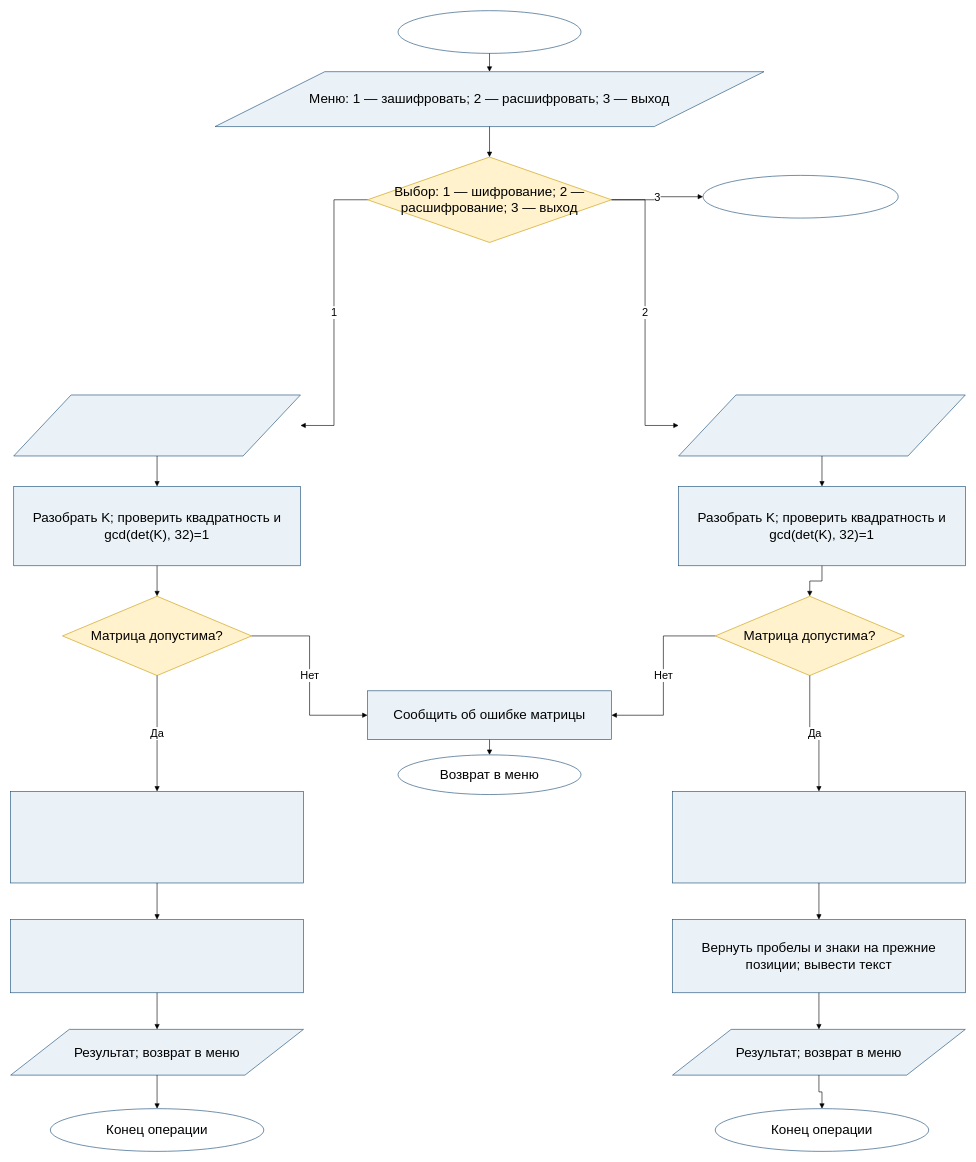
This 976x1162 diagram has some shape labels left out. Each missing label, with the box of its shape:
Буквы → индексы; по блокам M=K⁻¹·C mod 32; убрать добавочные Ъ: (672, 791, 965, 883)
Буквы → индексы; Ё→Е; дополнить Ъ; по блокам C=K·M mod 32: (10, 791, 303, 883)
Ввести открытый текст и матрицу K: (13, 394, 300, 456)
Ввести шифртекст и матрицу K: (678, 394, 965, 456)
Вернуть пробелы и знаки на прежние позиции; вывести шифртекст: (10, 919, 303, 993)
Выход: (702, 175, 898, 218)
Начало: (397, 10, 581, 53)
